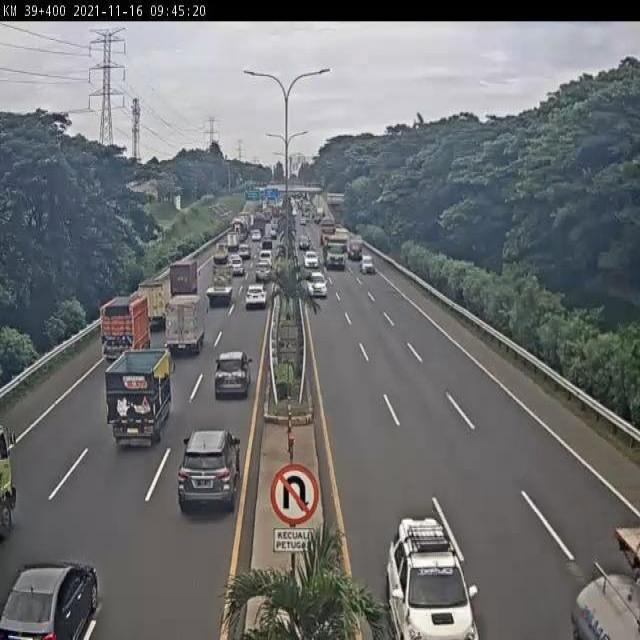car: (385, 517, 477, 640), (177, 428, 242, 511), (213, 352, 252, 400), (307, 270, 329, 298), (245, 285, 267, 312), (234, 245, 253, 268), (230, 257, 247, 279), (253, 267, 268, 285)
small bus: (257, 253, 274, 270)
small truck: (164, 295, 204, 352), (138, 280, 167, 325), (212, 242, 229, 266)
truck-m-: (108, 350, 170, 450), (100, 296, 148, 361), (168, 259, 197, 300), (206, 271, 234, 308)
